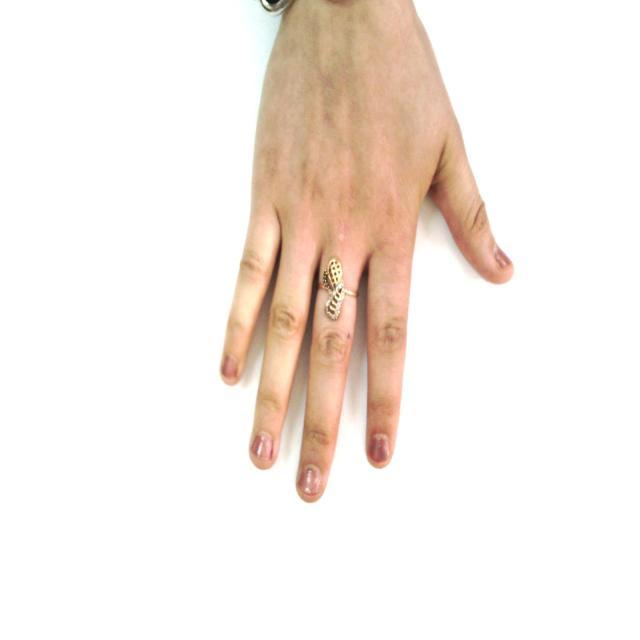Fingernail: (300, 465, 321, 495), (253, 434, 272, 462), (372, 437, 388, 463), (223, 357, 237, 380), (496, 248, 512, 268)
